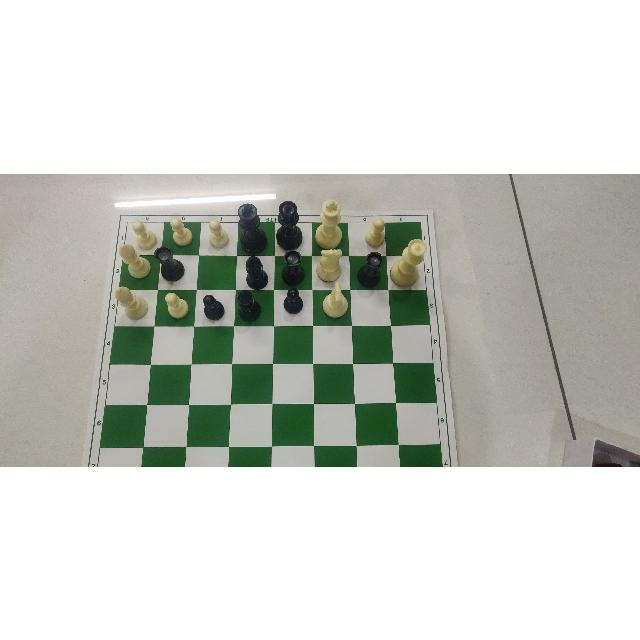black-bishop: (243, 255, 271, 285), (238, 288, 262, 322)
black-king: (236, 202, 267, 252)
black-pawn: (199, 291, 227, 320), (279, 285, 306, 315)
black-queen: (277, 201, 302, 251)
black-rook: (152, 250, 188, 282), (357, 250, 389, 286), (281, 248, 309, 284)
white-bishop: (111, 283, 149, 318), (118, 242, 148, 284)
white-king: (313, 197, 347, 244)
white-knight: (318, 283, 351, 322), (315, 249, 347, 284)
white-pawn: (160, 287, 188, 320), (166, 217, 193, 249), (365, 214, 387, 247), (127, 221, 156, 246), (207, 221, 230, 249)
white-queen: (395, 236, 425, 287)
